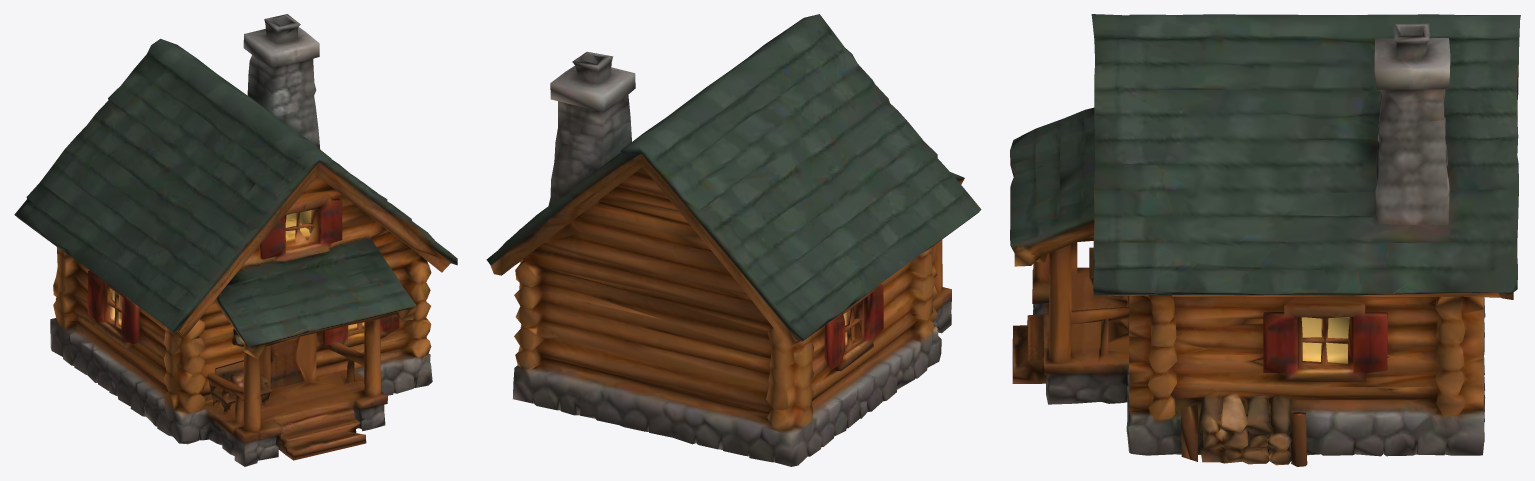
File: cabin.glb
3 renders of one model, left to right at view 1: azimuth 30°, elevation 25°; view 2: azimuth 150°, elevation 25°; view 3: azimuth 270°, elevation 25°, orthographic. The views are drawn at different scales.
Parts seen in each view (by area): view 1: cabin; view 2: cabin; view 3: cabin.
Part boxes in pixels (box(x1,y1,x2,y2)): cabin: box(14, 14, 457, 466); cabin: box(486, 14, 981, 466); cabin: box(1010, 14, 1520, 466).
Bounding box in the file's own units: 6.11 × 6 × 6.97.
Materials: 1 (1 with a texture image).
